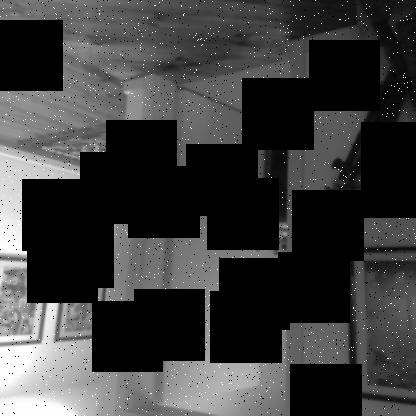Porte: (112, 35, 307, 415)
